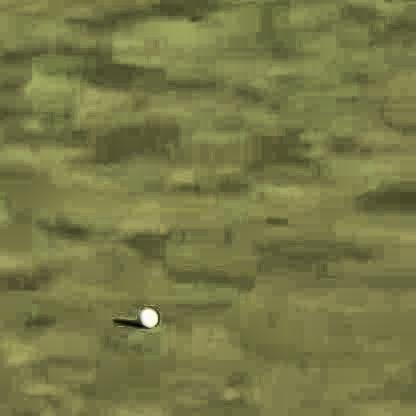golfball: (134, 305, 156, 324)
